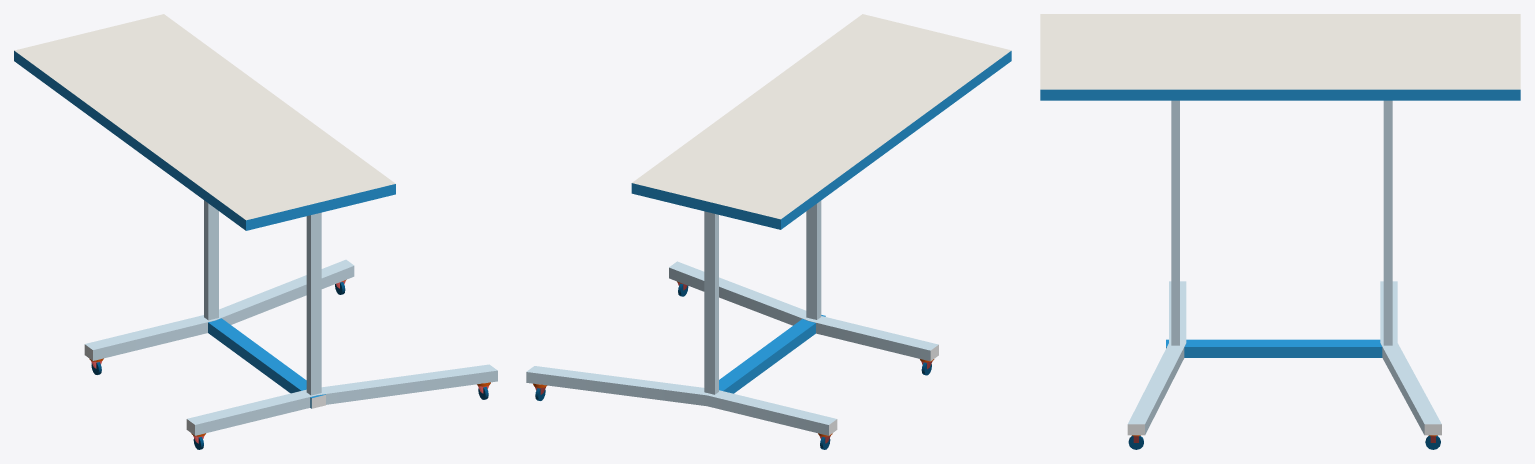
File: Item_table.FBX
The picture shows the model from 3 angles, left to right: view 1: azimuth 30°, elevation 25°; view 2: azimuth 150°, elevation 25°; view 3: azimuth 270°, elevation 25°; orthographic projection. The views are drawn at different scales.
Visible parts, largest first — view 1: Item_table; view 2: Item_table; view 3: Item_table.
Part boxes in pixels (<box>): Item_table: <box>14,14,497,449</box>; Item_table: <box>526,14,1011,449</box>; Item_table: <box>1040,14,1520,449</box>.
Bounding box in the file's own units: 11.07 × 10.15 × 15.13.
